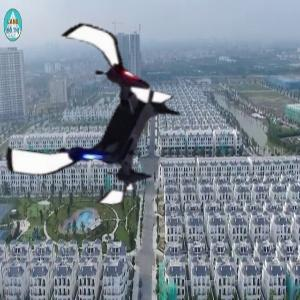drone: (5, 22, 191, 208)
